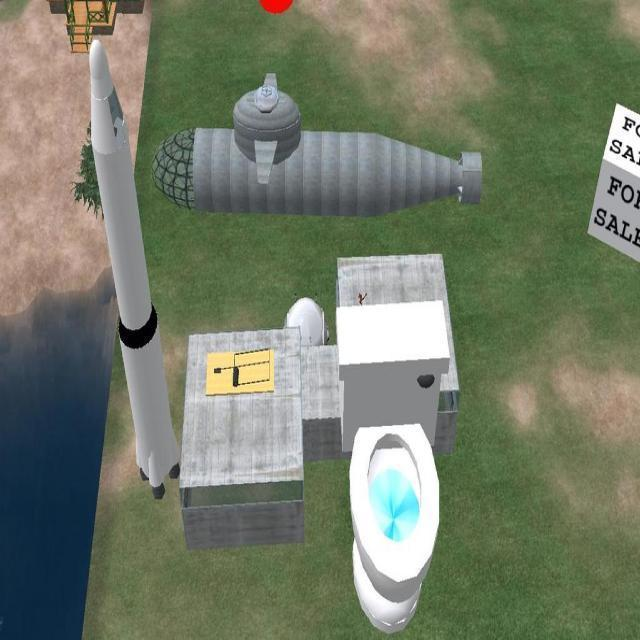Missile: (82, 34, 180, 502)
